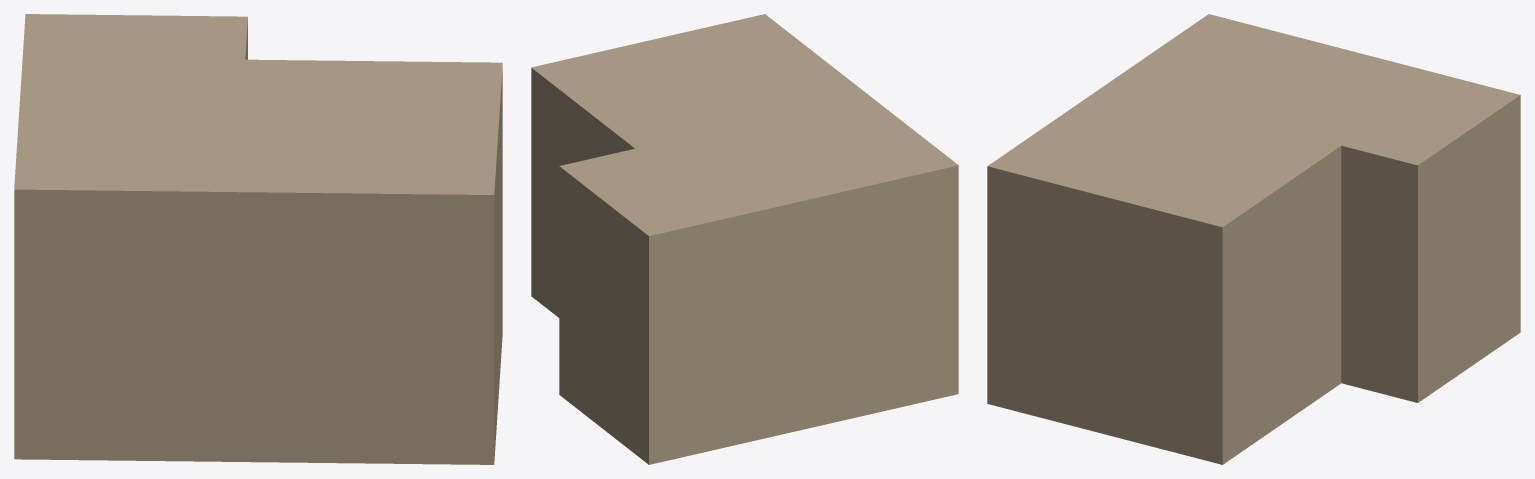
Rendered from bld_101353606.dae.
The picture shows the model from 3 angles, left to right: view 1: azimuth 30°, elevation 25°; view 2: azimuth 150°, elevation 25°; view 3: azimuth 270°, elevation 25°; orthographic projection. The views are drawn at different scales.
Visible parts, largest first — view 1: bld_101353606; view 2: bld_101353606; view 3: bld_101353606.
Part boxes in pixels (left/top/right/bottom): bld_101353606: left=14, top=14, right=502, bottom=464; bld_101353606: left=531, top=14, right=958, bottom=464; bld_101353606: left=987, top=14, right=1520, bottom=464.
Bounding box in the file's own units: 15.4 × 16.27 × 8.
